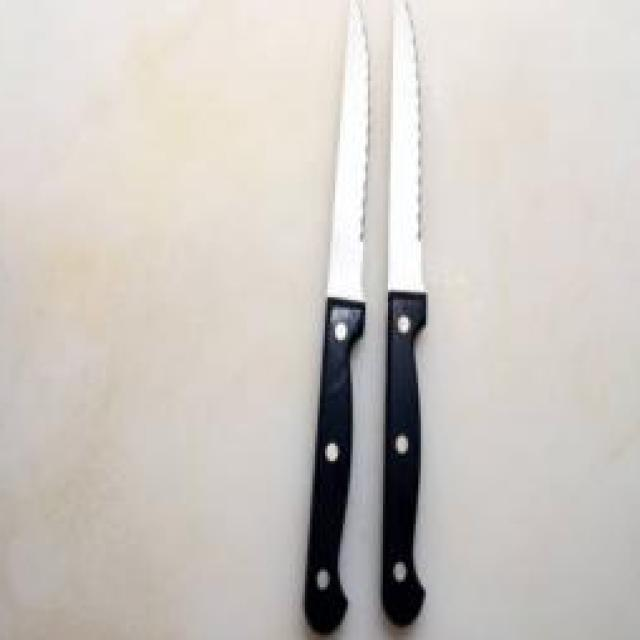knife: (273, 0, 368, 632), (378, 0, 436, 640)
